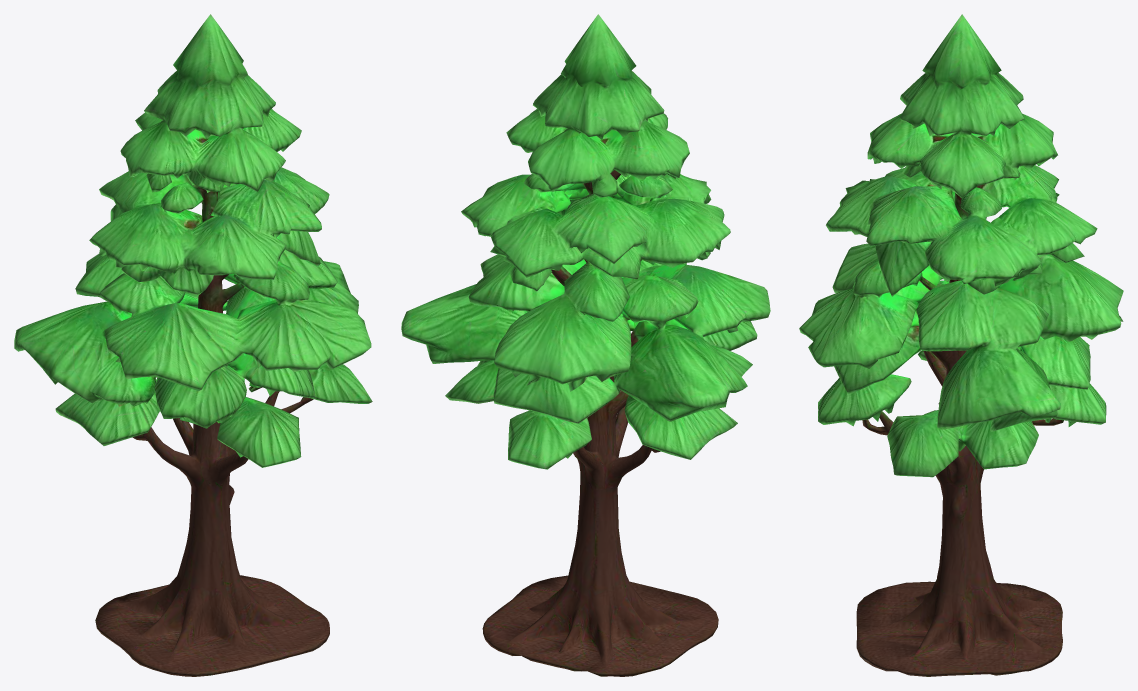
The model's file is tree_pine.glb.
3 views of the same model, side by side, from view 1: azimuth 30°, elevation 25°; view 2: azimuth 150°, elevation 25°; view 3: azimuth 270°, elevation 25° (orthographic).
Bounding box in the file's own units: 1.05 × 1.92 × 0.9126.
Materials: 1 (1 with a texture image).
